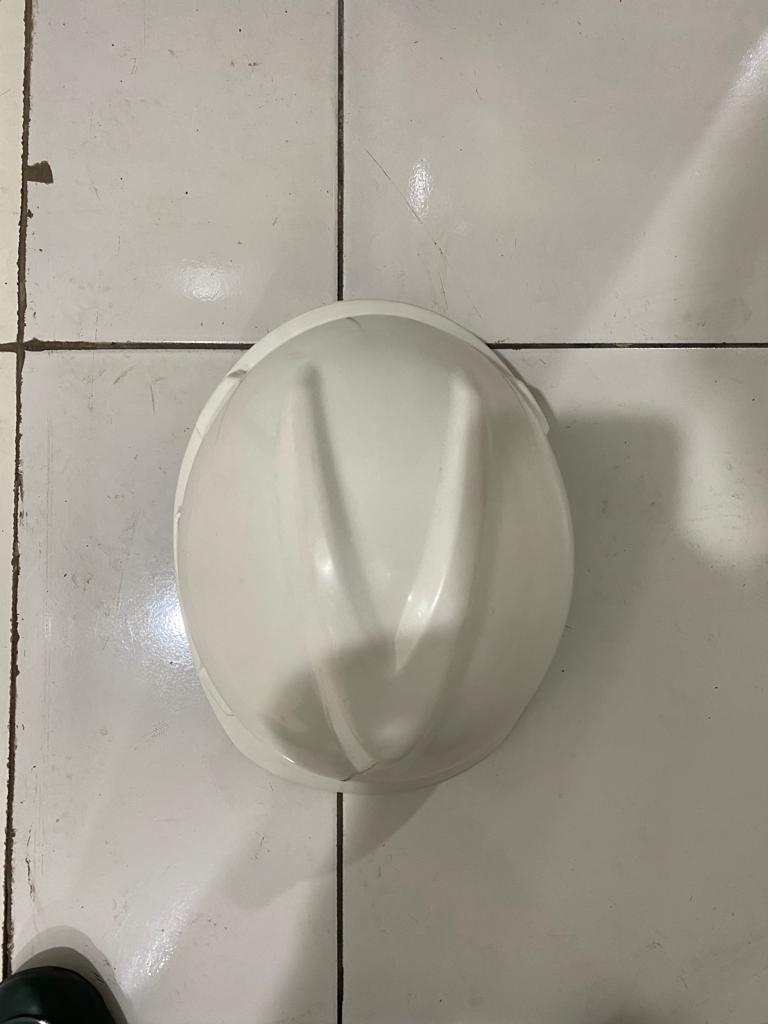HELM: (188, 313, 554, 794)
